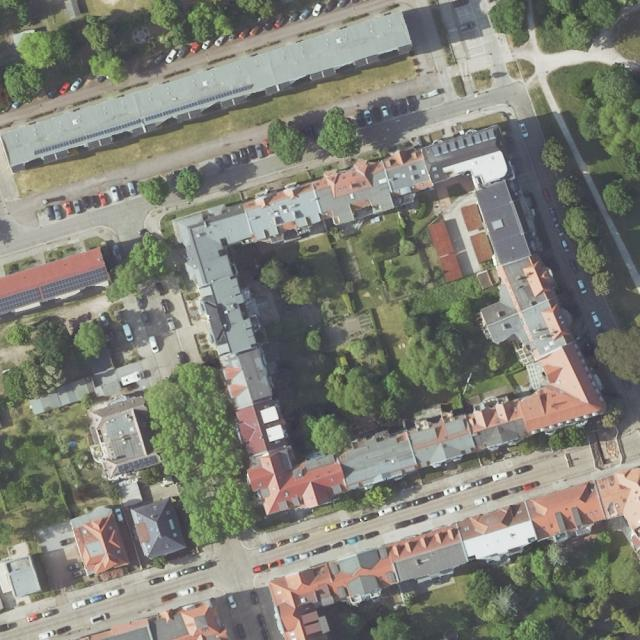PV: (34, 85, 252, 156), (0, 266, 111, 315), (118, 454, 158, 474)
